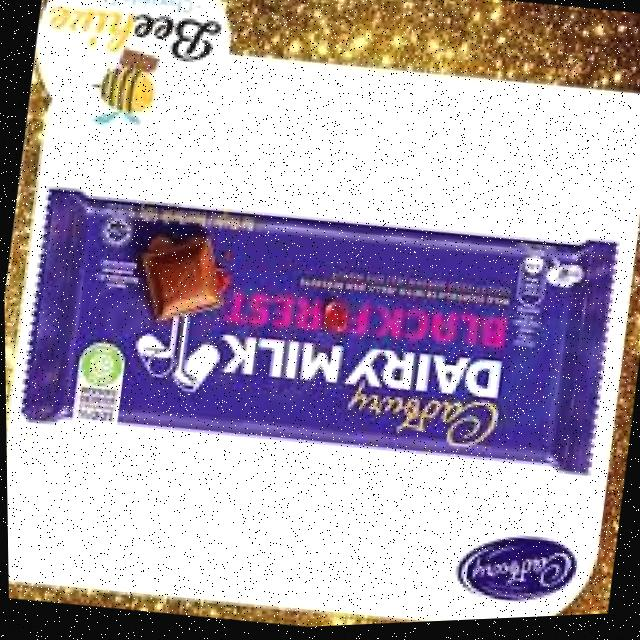cadbury: (15, 162, 623, 500)
